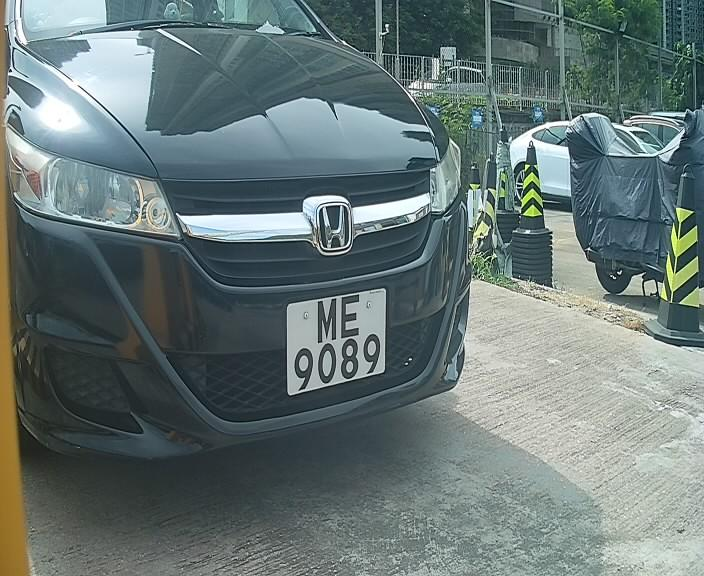License Plate: (280, 281, 393, 404)
